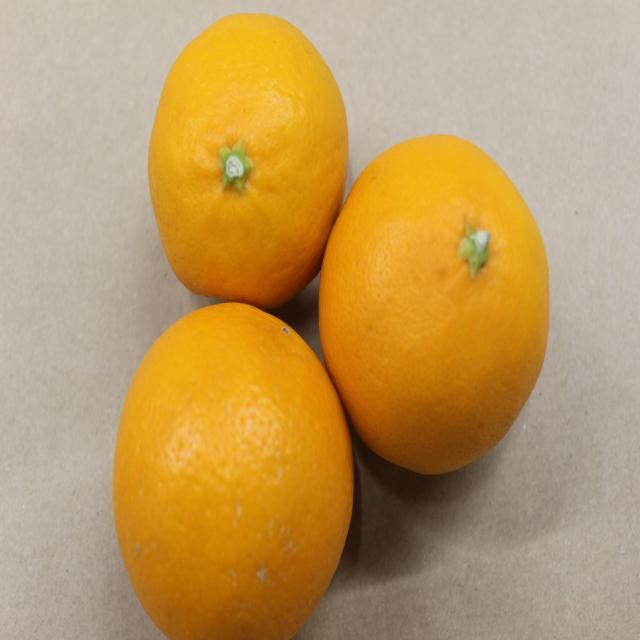Orange: (111, 300, 359, 640), (318, 132, 554, 478), (149, 12, 351, 308)
